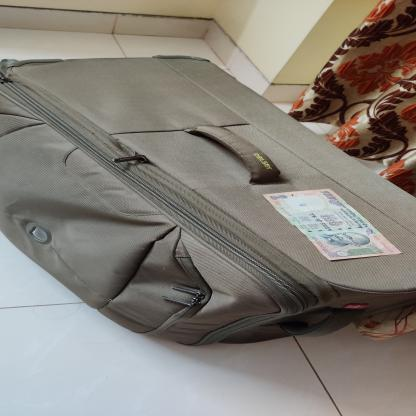Old100Front: (262, 188, 403, 260)
